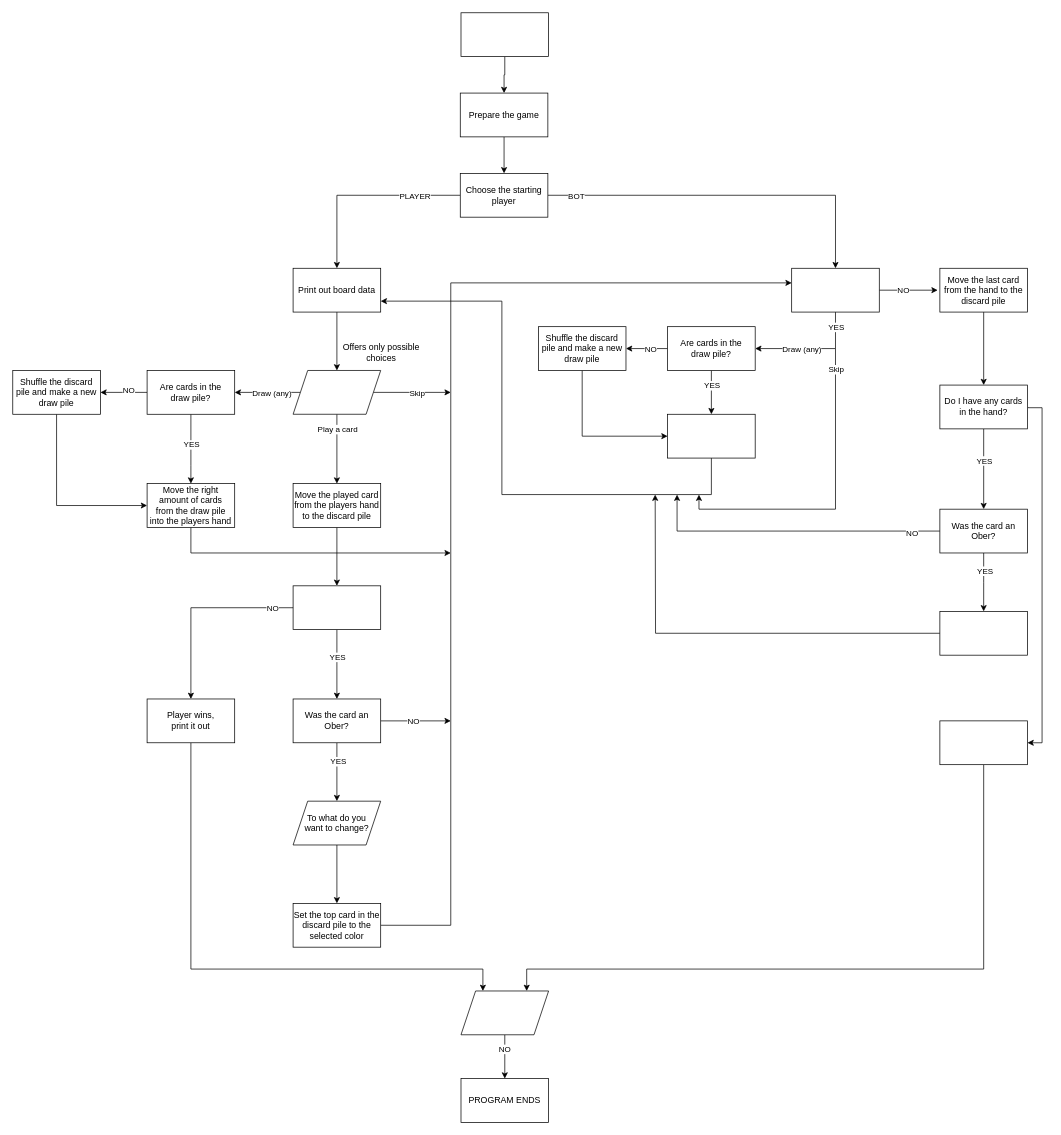
Some shapes in this 1061 by 1135 pixel diagram are drawn without their labels. The centre of each missing label's shape, as x and y in pixels:
Bot wins, print it out: [983,742]
Do I have to do draw or skip?: [835,290]
Do player any cards in the hand?: [336,607]
Do you want to play again?: [504,1012]
Move the right amount of cards from the draw pile into the hand: [711,436]
PROGRAM STARTS: [504,34]
Set the top card in the discard pile to the most frequent color in the hand: [983,633]
What will you play?: [336,392]
